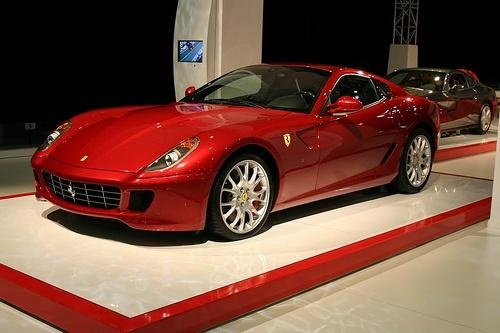car: (30, 64, 441, 245), (385, 68, 497, 137)
